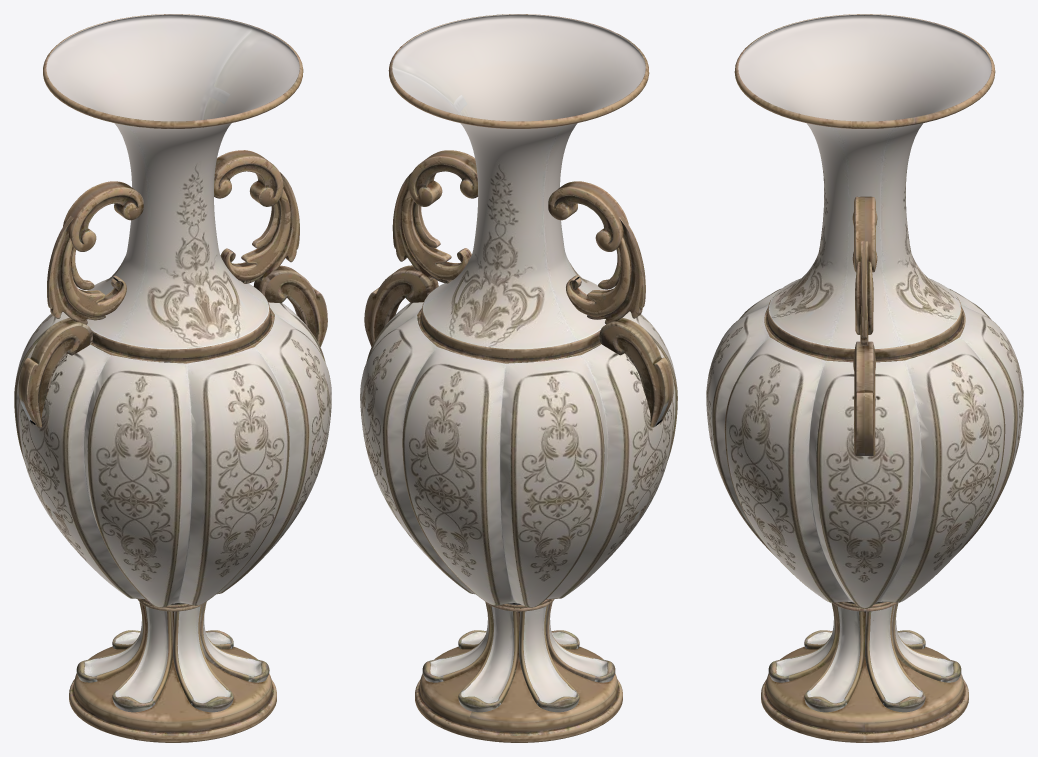
The model's file is 静物_瓶罐_vases_opt_split_20260816092757_opt.glb.
3 views of the same model, side by side, from view 1: azimuth 30°, elevation 25°; view 2: azimuth 150°, elevation 25°; view 3: azimuth 270°, elevation 25° (orthographic).
Bounding box in the file's own units: 0.1359 × 0.2722 × 0.124.
Materials: 2 (2 with a texture image).
